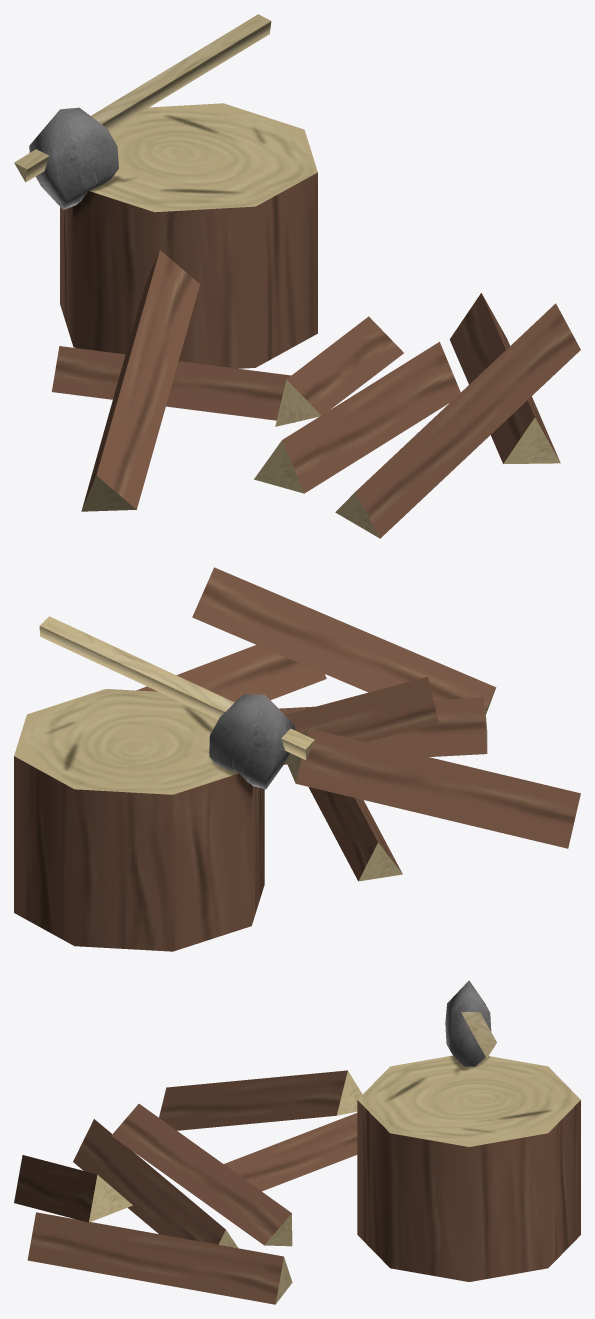
The model's file is kikori.fbx.
The picture shows the model from 3 angles, top to bottom: view 1: azimuth 30°, elevation 25°; view 2: azimuth 150°, elevation 25°; view 3: azimuth 270°, elevation 25°; orthographic projection. The views are drawn at different scales.
Parts seen in each view (by area): view 1: mokuzai, kirikabu, ono; view 2: kirikabu, mokuzai, ono; view 3: mokuzai, kirikabu, ono.
Part boxes in pixels (<box>): mokuzai: <box>52,250,580,538</box>; kirikabu: <box>60,103,317,368</box>; ono: <box>14,14,271,209</box>; kirikabu: <box>14,689,264,951</box>; mokuzai: <box>136,567,580,881</box>; ono: <box>39,616,314,789</box>; mokuzai: <box>14,1070,362,1304</box>; kirikabu: <box>357,1055,580,1281</box>; ono: <box>445,980,496,1066</box>.
Bounding box in the file's own units: 6.19 × 3.43 × 7.61.
1 material, 1 textured.
